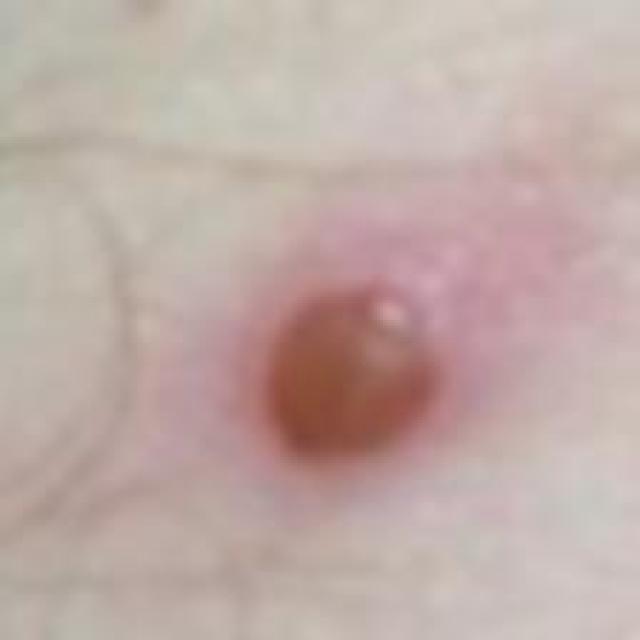monkeypox: (238, 200, 484, 546)
